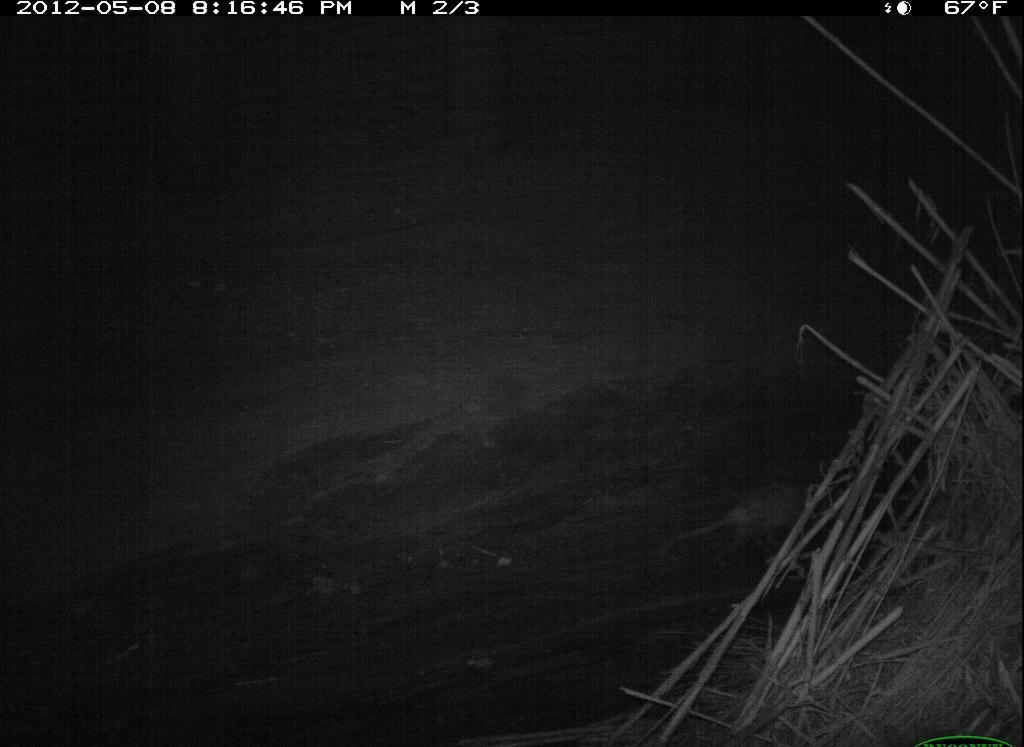opossum: (656, 478, 830, 577)
